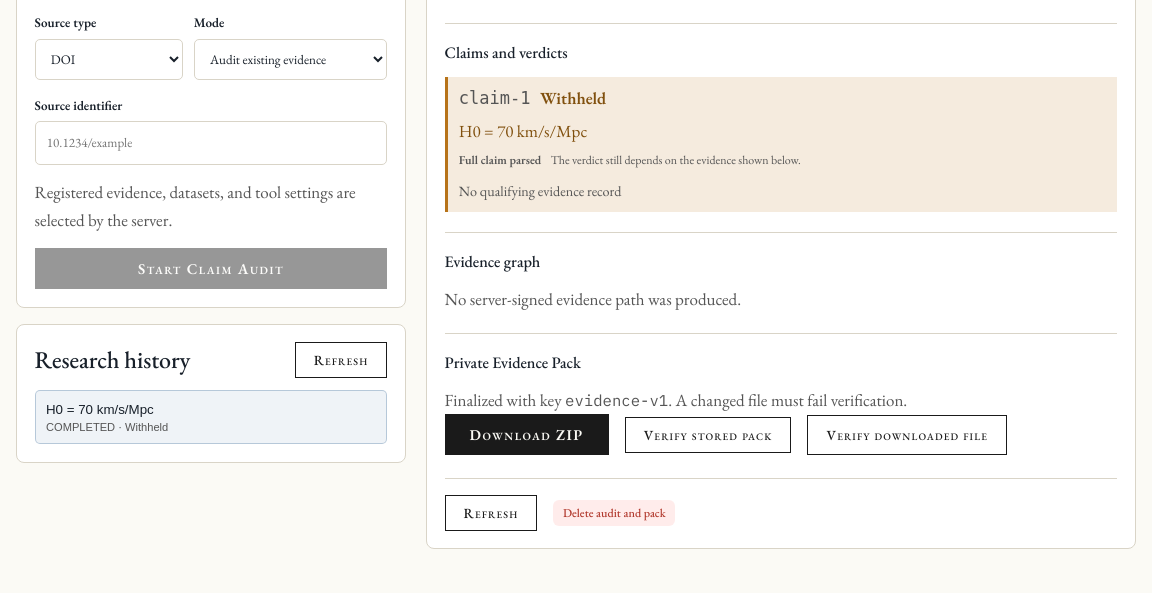
it: ClaimAuditPage › shows lifecycle and scientific verdict separately and verifies a private pack
(page scrolled)
Check: the text "No qualifying evidence record" is shown, box [459, 182, 622, 200]
Check: the text "Full claim parsed" is shown, box [459, 151, 541, 170]
Click the button "Verify stored pack".
click(708, 435)  # box [625, 417, 792, 453]
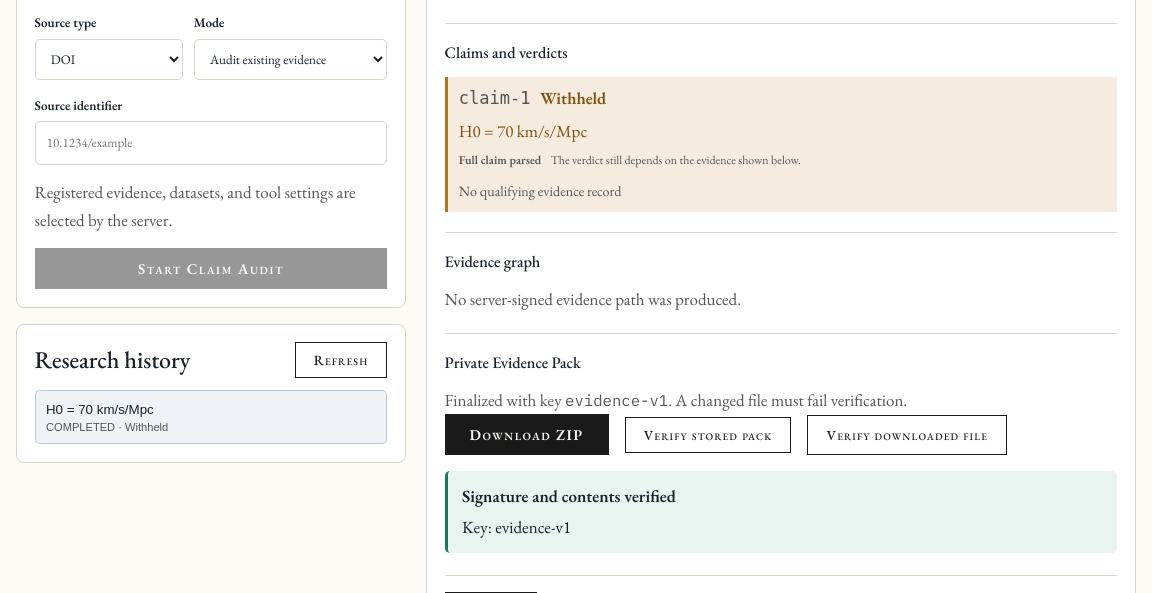
Check: the text "Signature and contents verified" is shown, box [462, 485, 676, 507]
